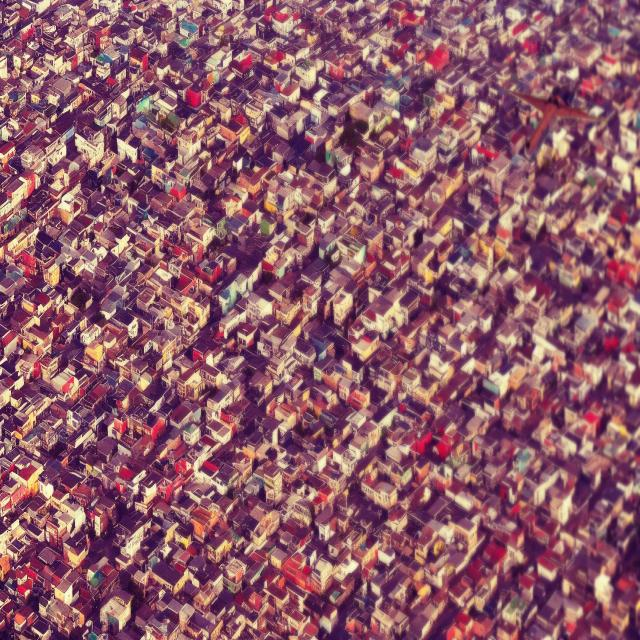airplane: (507, 83, 598, 159)
